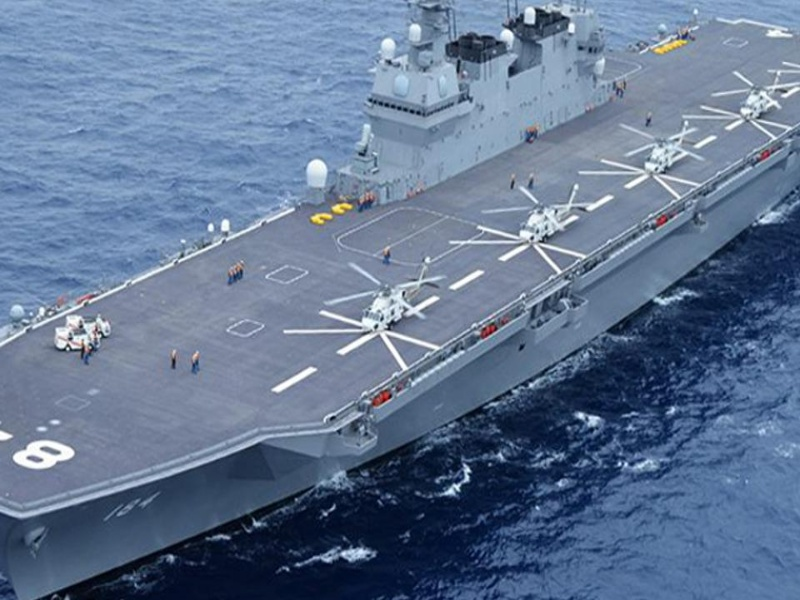carrier: (19, 14, 791, 600)
